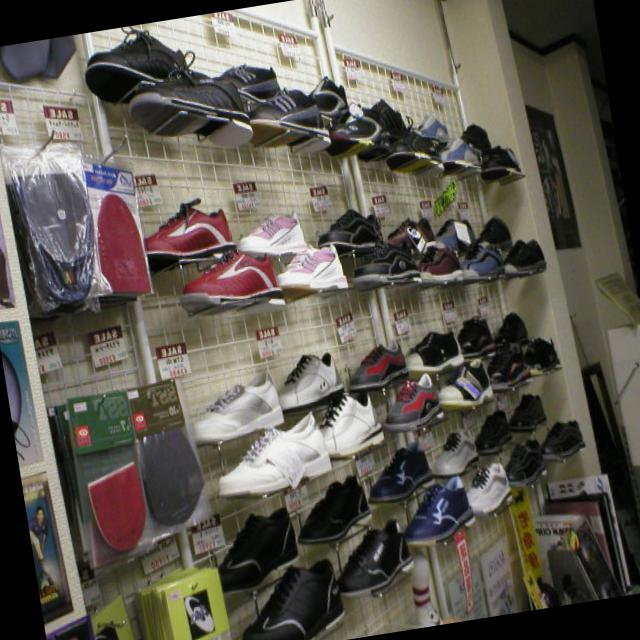ceiling beam: (506, 0, 608, 90)
poster crop: (530, 105, 584, 246)
shelves crop: (0, 0, 567, 640)
sneaker: (130, 68, 254, 148), (219, 407, 333, 494), (243, 557, 349, 640), (218, 505, 300, 593), (196, 368, 285, 443), (182, 250, 284, 312), (339, 514, 415, 596), (142, 199, 236, 263), (406, 475, 479, 544), (252, 87, 329, 148), (368, 436, 434, 501), (320, 388, 382, 457), (279, 349, 343, 410), (281, 241, 348, 291), (356, 237, 423, 283), (438, 356, 496, 408), (503, 235, 549, 273), (524, 334, 561, 371), (480, 141, 524, 169)
wall clock: (237, 0, 626, 598), (515, 33, 640, 590)
